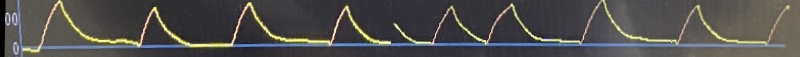leakage: (473, 0, 764, 56)
